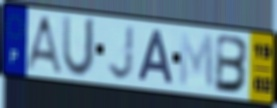A: (22, 14, 64, 76), (136, 28, 176, 86)
B: (213, 32, 251, 96)
J: (106, 23, 136, 83)
M: (178, 30, 216, 92)
U: (60, 13, 97, 80)
